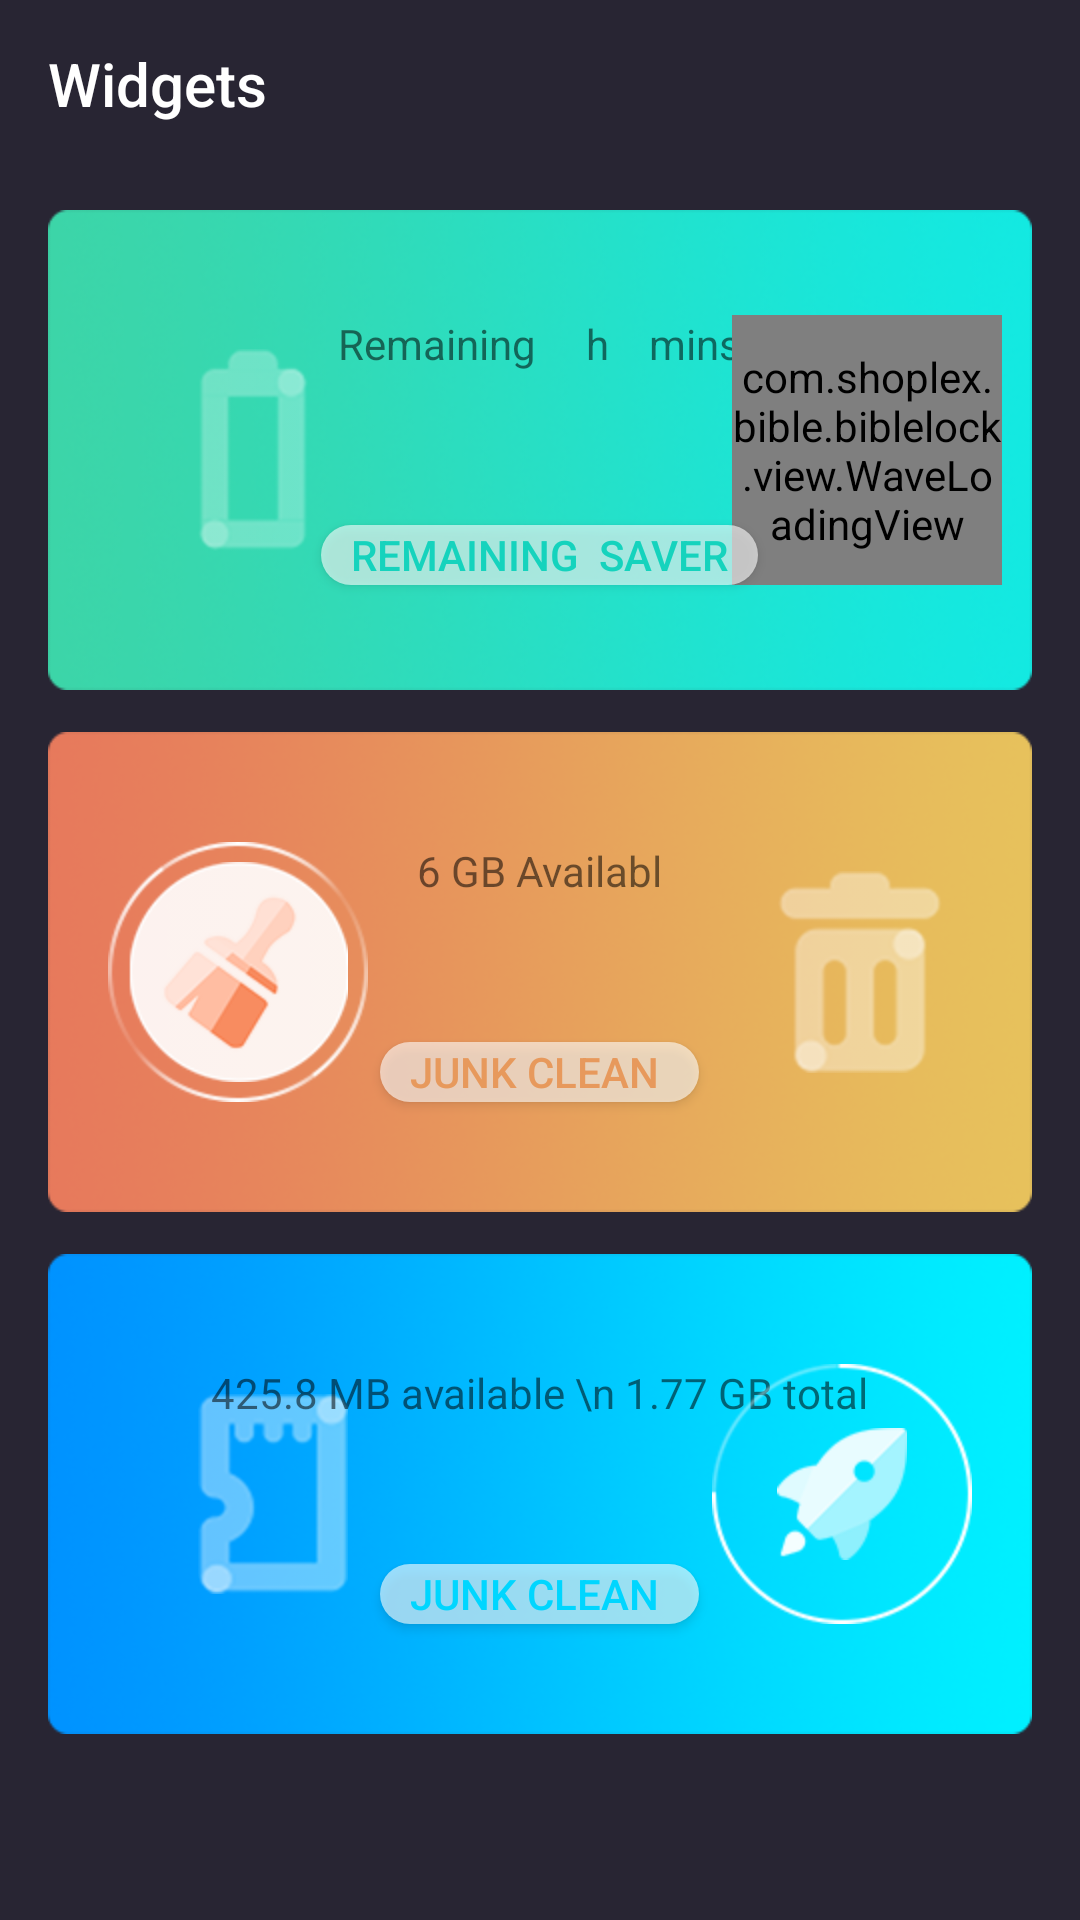

Where icons sit on this 1080 x 1920 app screen, as Rect(x1, y1, x2, y2):
delect: Rect(780, 872, 940, 1073)
ivbattery: Rect(200, 350, 306, 549)
momory: Rect(200, 1394, 348, 1594)
